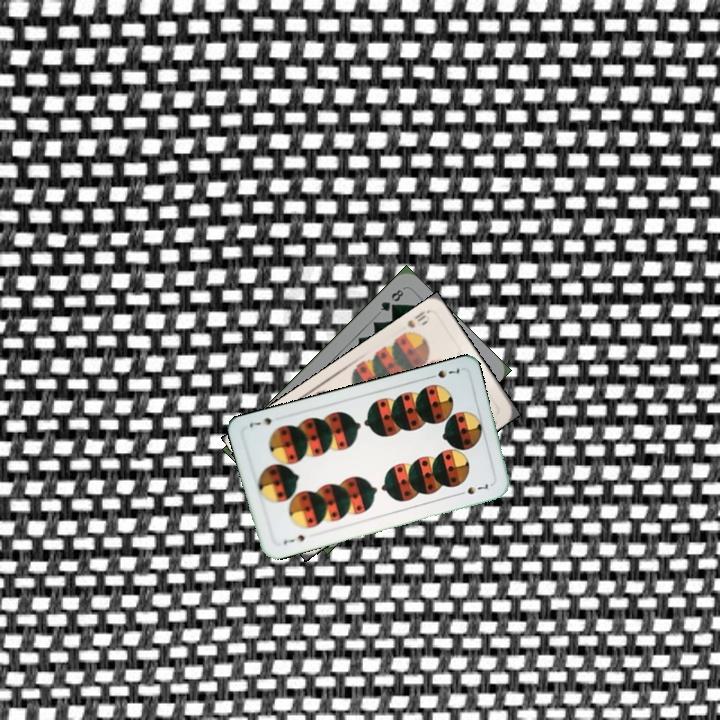G8: (376, 284, 407, 314)
S10: (398, 306, 432, 340)
S7: (424, 364, 462, 381), (279, 531, 310, 547)
